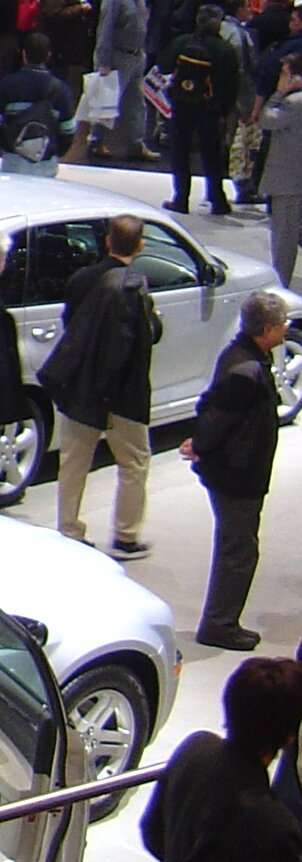person: (185, 286, 300, 661), (61, 215, 180, 563), (139, 640, 302, 862)
